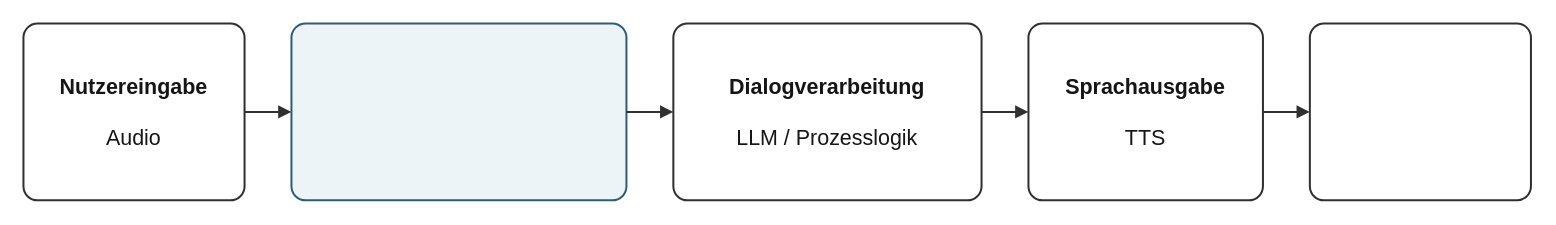
This 1556x225 diagram has some shape labels left out. Here are the shapes that lost their labels. From the top down, the centre of each, then its label:
the point at 458,111: Eingabeverarbeitung STT · VAD · EOT Detection
the point at 1419,111: Nutzerausgabe Audio
